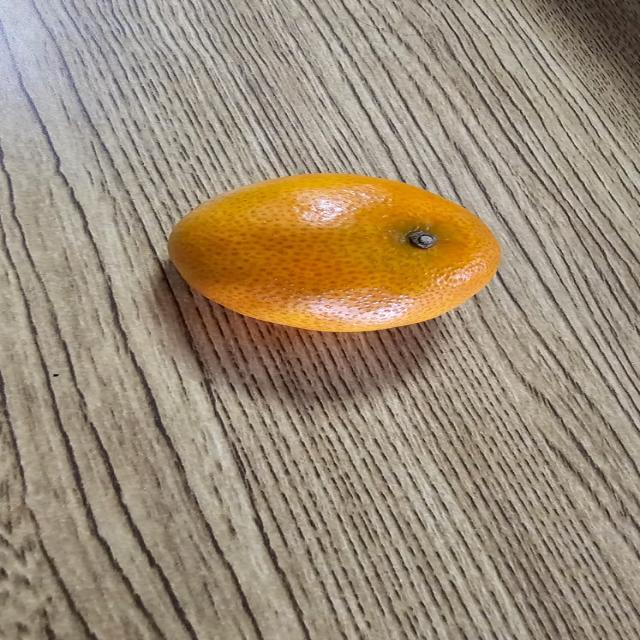Jeruk Mandarin: (162, 168, 514, 338)
